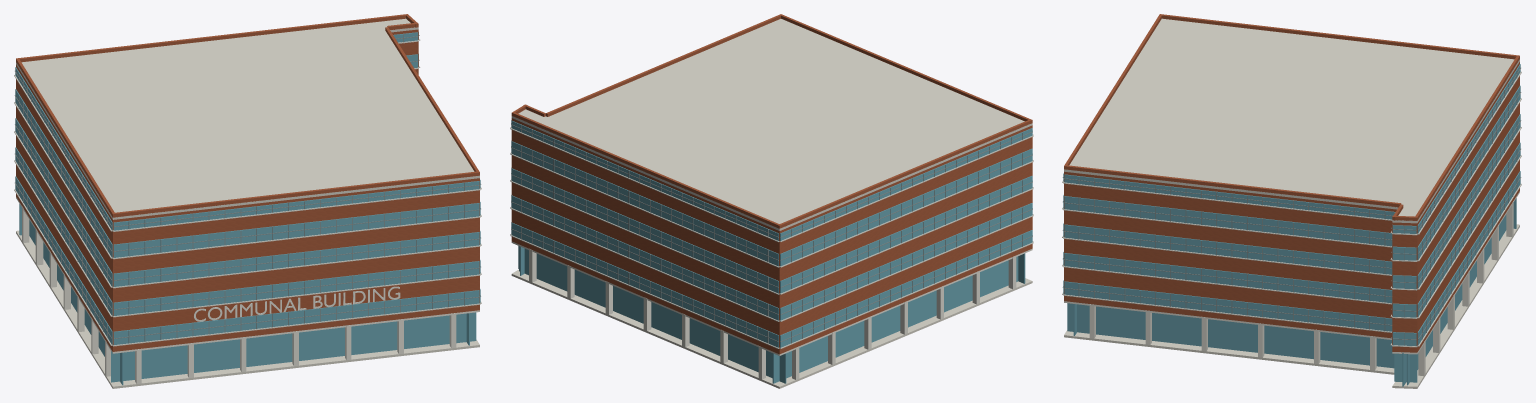
The model's file is communal.glb.
The picture shows the model from 3 angles, left to right: view 1: azimuth 30°, elevation 25°; view 2: azimuth 150°, elevation 25°; view 3: azimuth 270°, elevation 25°; orthographic projection. The views are drawn at different scales.
Parts seen in each view (by area): view 1: COM_roof_slab, DETAIL_baked_REF_COM_glass, COM_upper_mass, DETAIL_baked_REF_COM_metal, DETAIL_baked_REF_COM_brick, DETAIL_baked_REF_COM_stone, COM_base, DETAIL_baked_REF_COM_concrete, COM_identity, COM_soffit; view 2: COM_roof_slab, DETAIL_baked_REF_COM_glass, COM_upper_mass, DETAIL_baked_REF_COM_metal, DETAIL_baked_REF_COM_brick, DETAIL_baked_REF_COM_stone, COM_base, DETAIL_baked_REF_COM_concrete, COM_soffit; view 3: COM_roof_slab, DETAIL_baked_REF_COM_glass, COM_upper_mass, DETAIL_baked_REF_COM_metal, DETAIL_baked_REF_COM_brick, DETAIL_baked_REF_COM_stone, COM_base, DETAIL_baked_REF_COM_concrete, COM_soffit.
Part boxes in pixels (bbox=[...]): COM_roof_slab: bbox=[16, 18, 479, 219]; DETAIL_baked_REF_COM_glass: bbox=[15, 32, 480, 385]; COM_upper_mass: bbox=[16, 29, 479, 351]; DETAIL_baked_REF_COM_metal: bbox=[14, 34, 481, 343]; DETAIL_baked_REF_COM_brick: bbox=[16, 14, 479, 217]; DETAIL_baked_REF_COM_stone: bbox=[14, 39, 481, 346]; COM_base: bbox=[16, 230, 479, 388]; DETAIL_baked_REF_COM_concrete: bbox=[22, 206, 456, 383]; COM_identity: bbox=[194, 286, 400, 321]; COM_soffit: bbox=[16, 197, 479, 353]; COM_roof_slab: bbox=[511, 19, 1032, 230]; DETAIL_baked_REF_COM_glass: bbox=[511, 120, 1032, 383]; COM_upper_mass: bbox=[511, 118, 1032, 354]; DETAIL_baked_REF_COM_metal: bbox=[511, 123, 1032, 343]; DETAIL_baked_REF_COM_brick: bbox=[511, 14, 1032, 228]; DETAIL_baked_REF_COM_stone: bbox=[510, 127, 1033, 348]; COM_base: bbox=[511, 269, 1032, 388]; DETAIL_baked_REF_COM_concrete: bbox=[529, 248, 1016, 379]; COM_soffit: bbox=[511, 241, 1032, 355]; COM_roof_slab: bbox=[1064, 18, 1519, 223]; DETAIL_baked_REF_COM_glass: bbox=[1063, 64, 1520, 386]; COM_upper_mass: bbox=[1064, 62, 1519, 352]; DETAIL_baked_REF_COM_metal: bbox=[1062, 68, 1521, 345]; DETAIL_baked_REF_COM_brick: bbox=[1064, 14, 1519, 220]; DETAIL_baked_REF_COM_stone: bbox=[1062, 71, 1521, 347]; COM_base: bbox=[1064, 224, 1519, 388]; DETAIL_baked_REF_COM_concrete: bbox=[1089, 201, 1513, 376]; COM_soffit: bbox=[1064, 191, 1519, 354].
Bounding box in the file's own units: 51.07 × 19.85 × 48.33.
5 materials, 1 textured.
